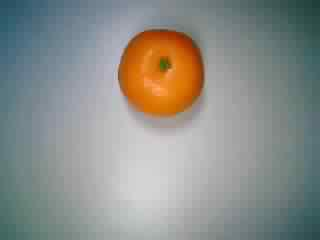orange: (114, 24, 209, 126)
